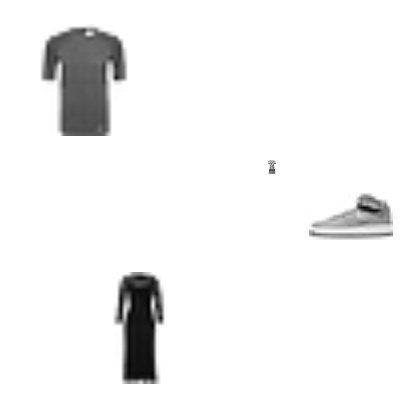9: (110, 360, 124, 374)
Dress: (83, 272, 195, 384), (265, 160, 279, 174)
Sneaker: (309, 173, 393, 257)
T-shirt/top: (26, 24, 138, 136)
